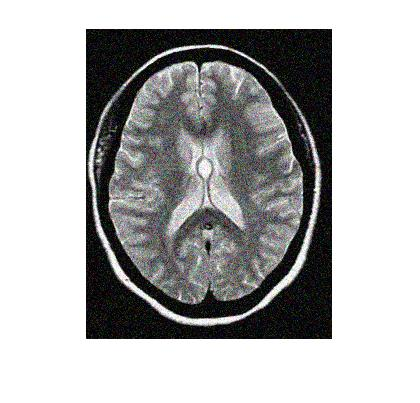Brain_Cancer: (187, 151, 223, 185)
